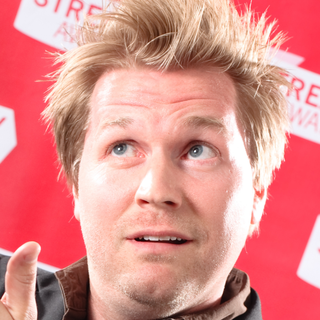eye: (174, 136, 225, 167), (98, 139, 147, 162)
